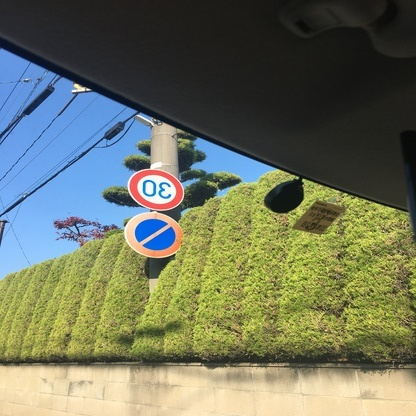Prohibition_sign: (120, 213, 205, 270)
Speed_sign: (125, 168, 189, 219)
